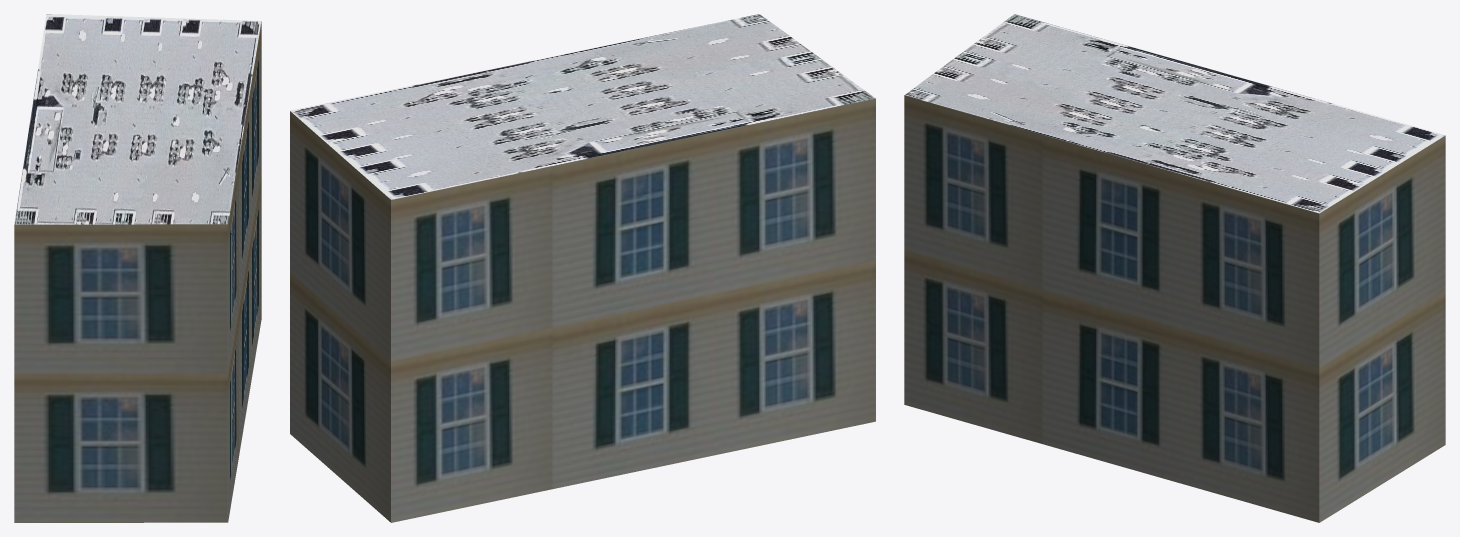
The model's file is ResTex__2834.fbx.
The picture shows the model from 3 angles, left to right: view 1: azimuth 30°, elevation 25°; view 2: azimuth 150°, elevation 25°; view 3: azimuth 270°, elevation 25°; orthographic projection. The views are drawn at different scales.
Parts seen in each view (by area): view 1: CityEngineMaterial_7_m, CityEngineMaterial_m; view 2: CityEngineMaterial_7_m, CityEngineMaterial_m; view 3: CityEngineMaterial_7_m, CityEngineMaterial_m.
Boxes of the visible parts, x1,y1,x2,y2 form: CityEngineMaterial_7_m: (14,22,261,522); CityEngineMaterial_m: (14,14,261,224); CityEngineMaterial_7_m: (290,98,875,522); CityEngineMaterial_m: (290,14,875,199); CityEngineMaterial_7_m: (904,95,1445,522); CityEngineMaterial_m: (904,14,1445,213).
Bounding box in the file's own units: 8.3 × 6 × 9.52.
2 materials, 2 textured.
